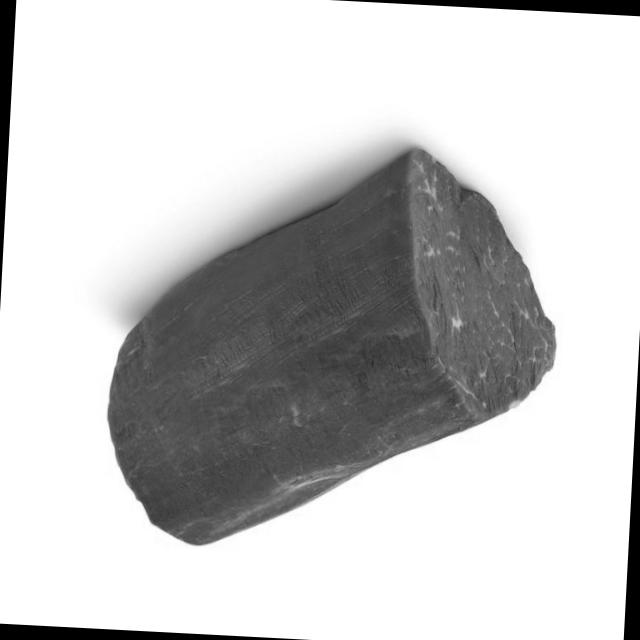filet: (103, 128, 556, 557)
